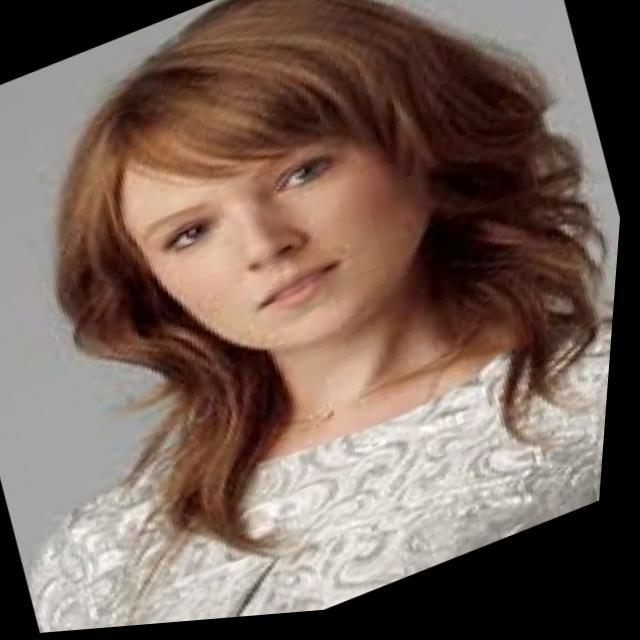Nonhelmet: (86, 16, 515, 363)
